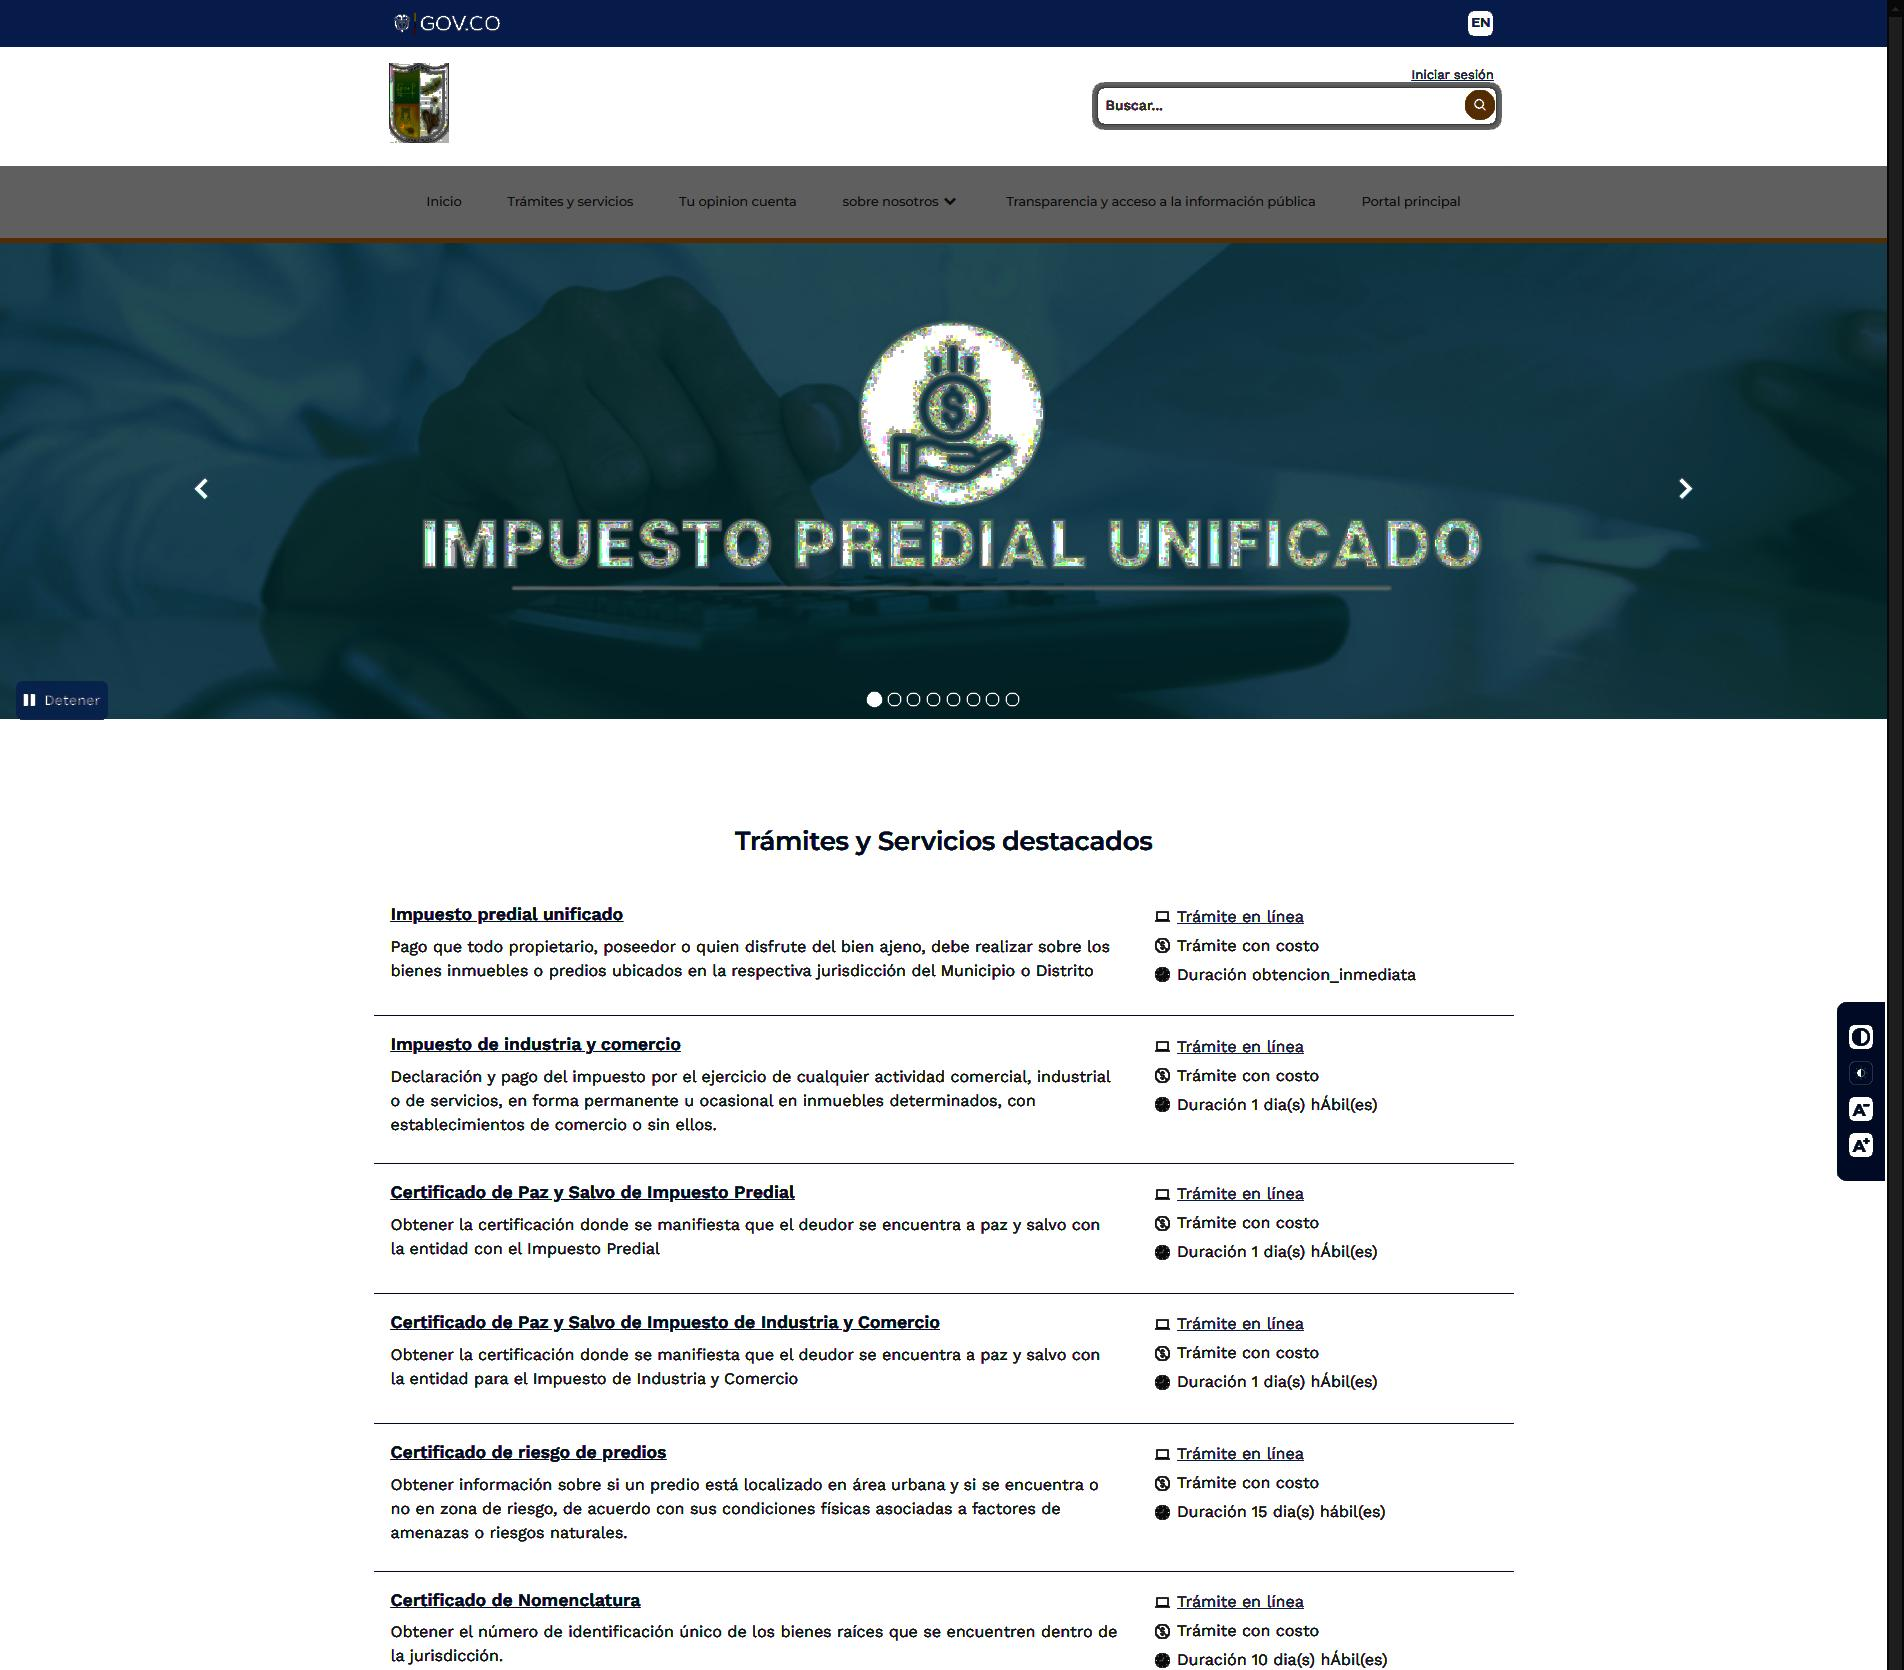banner principal: (0, 231, 1888, 726)
barra accesibilidad: (1834, 998, 1888, 1182)
barra govco: (388, 0, 1499, 49)
btn buscador: (1092, 82, 1500, 129)
btn idiomas: (1466, 8, 1494, 39)
btn inicio: (423, 189, 464, 211)
btn inicio sesion: (1408, 66, 1496, 84)
btn tramites: (717, 826, 1166, 859), (503, 191, 636, 213)
btn transpariencia: (1004, 192, 1319, 213)
logogovco: (392, 7, 502, 39)
menu principal: (421, 185, 1469, 223)
